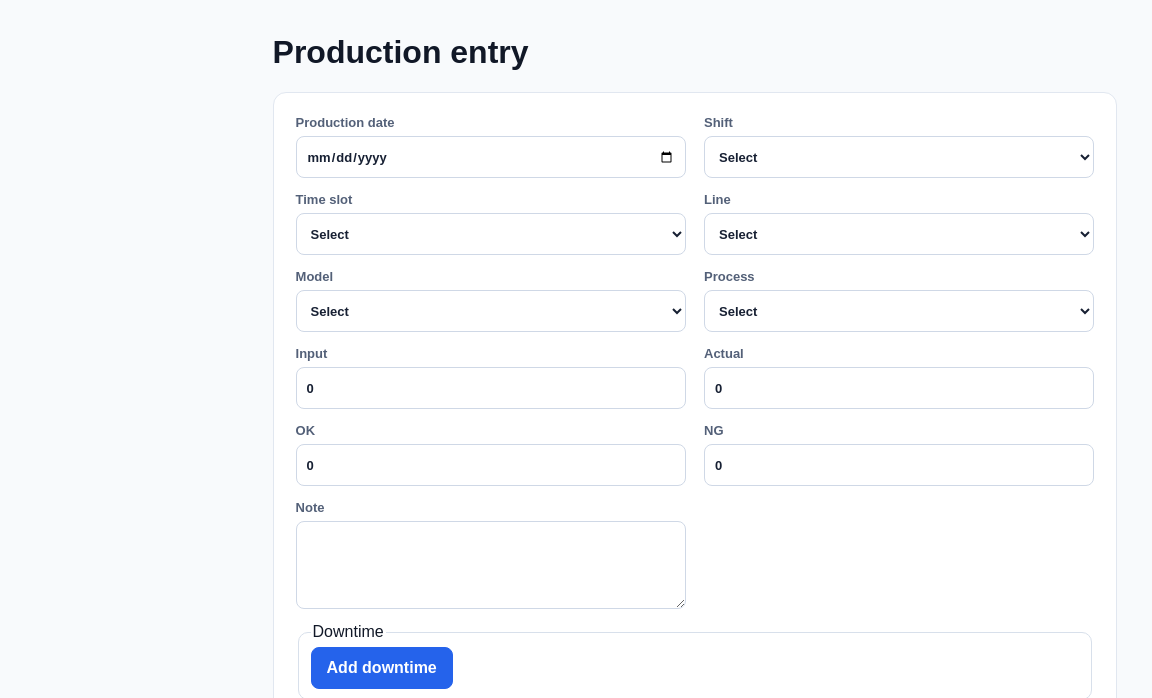
Test case: ProductionEntryPage › loads an existing record, submits its exact version, and advances local version after save
Later steps or results of the test are not shown.
Expected: the dropdown labelled "Shift" is shown, top-left (704, 136), bottom-right (1094, 178)
Type "2026-07-28" into the date field labelled "Production date". click: {"x": 491, "y": 157}
box: top-left (296, 136), bottom-right (686, 178)
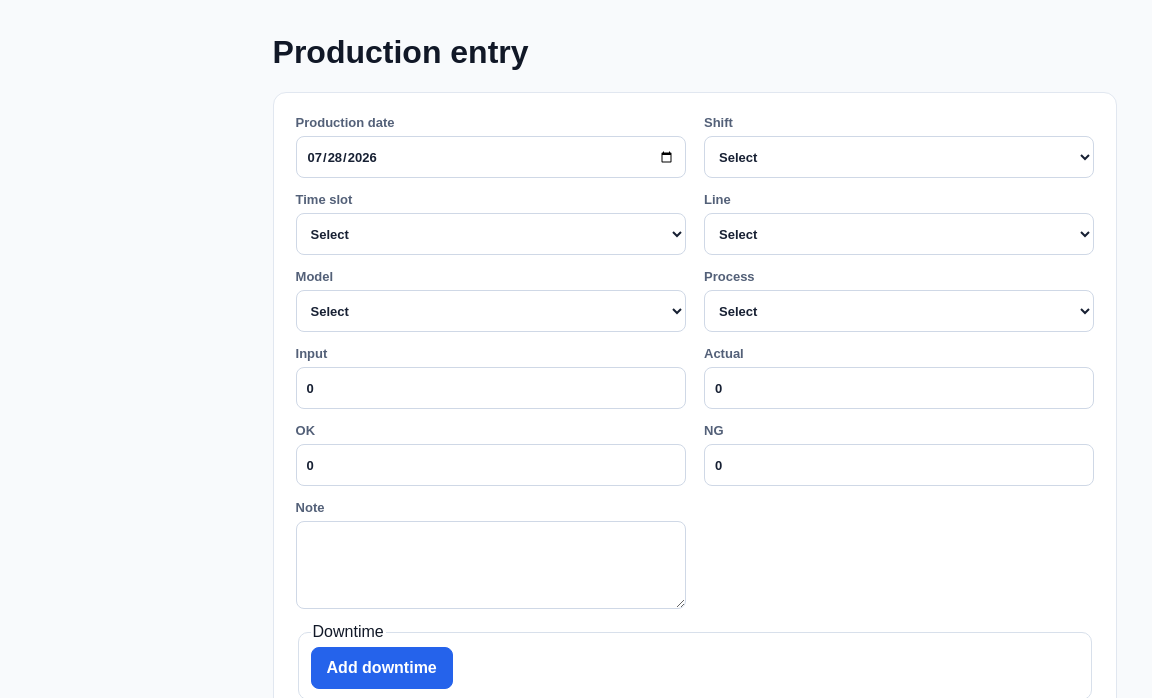
Select "Day" in the dropdown labelled "Shift". click: {"x": 899, "y": 157}
box: top-left (704, 136), bottom-right (1094, 178)
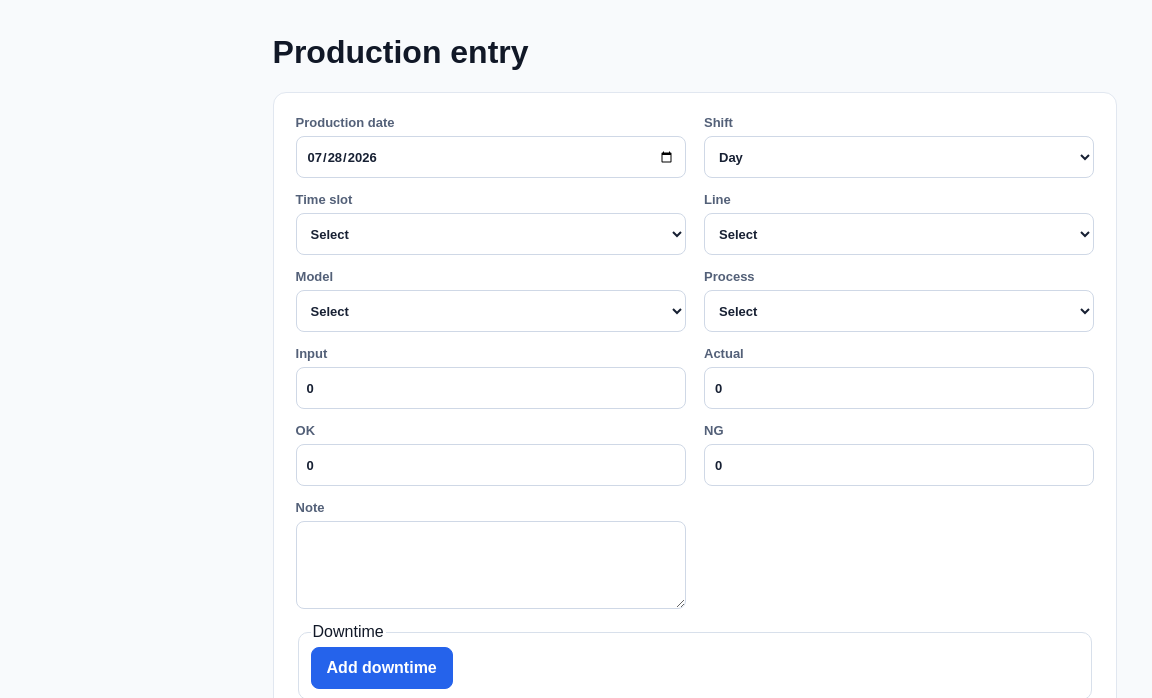
Select "A" in the dropdown labelled "Time slot". click: {"x": 491, "y": 234}
box: top-left (296, 213), bottom-right (686, 255)
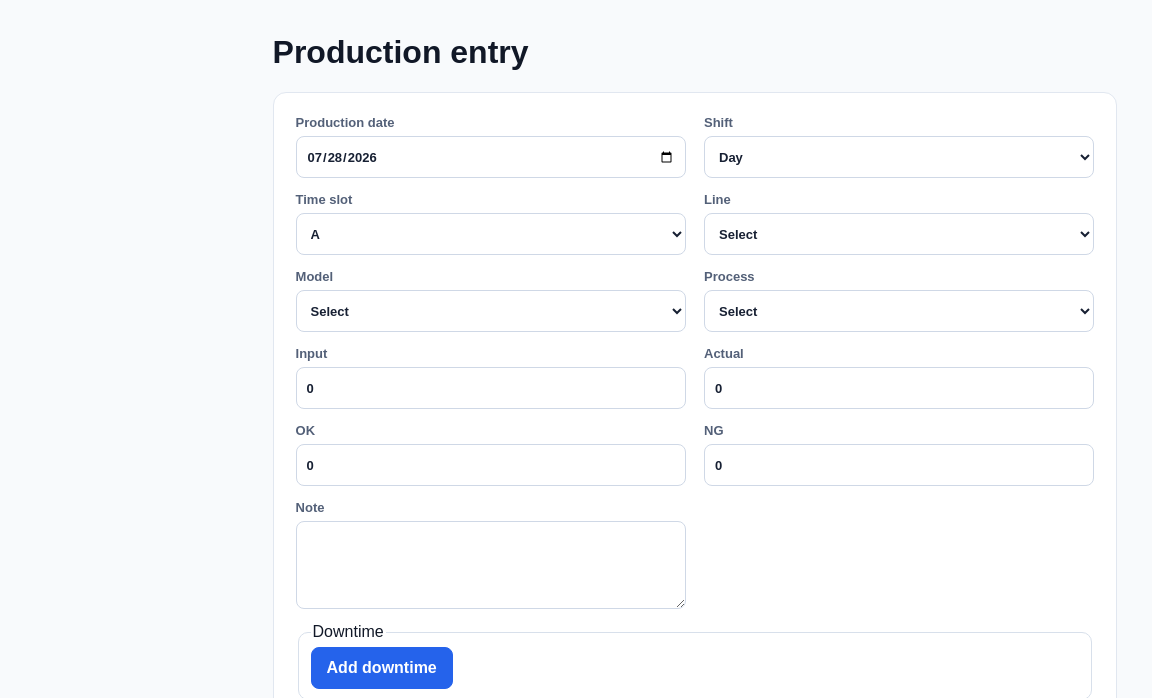
Select "Line" in the dropdown labelled "Line". click: {"x": 899, "y": 234}
box: top-left (704, 213), bottom-right (1094, 255)
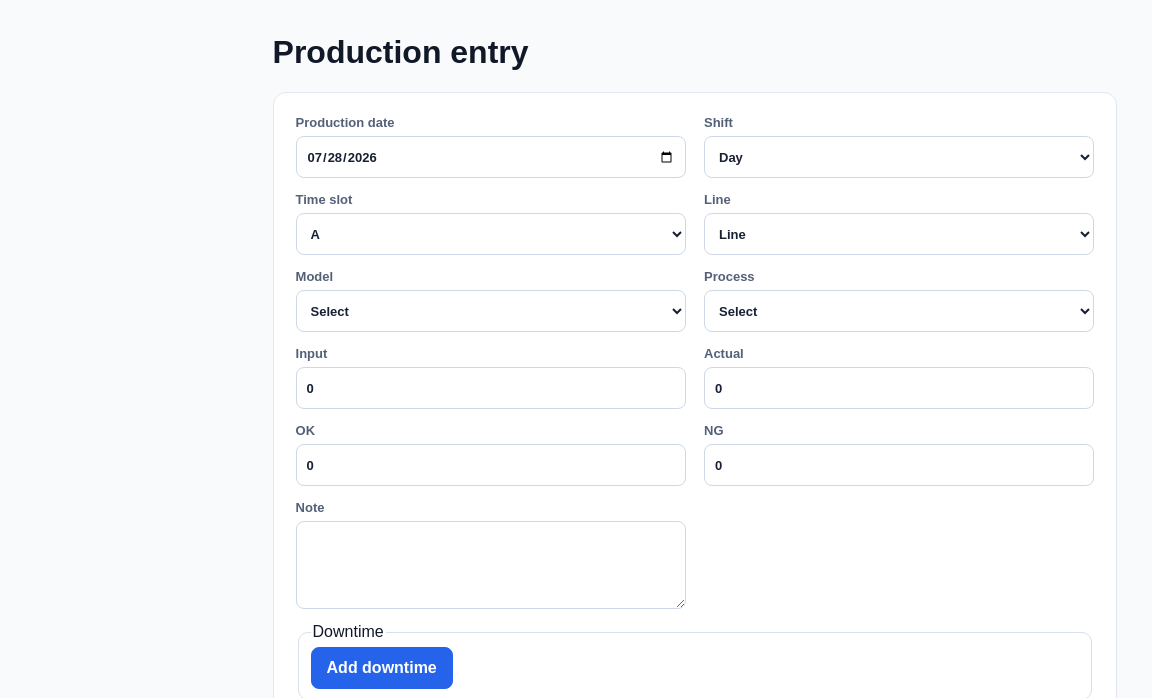
Select "Model" in the dropdown labelled "Model". click: {"x": 491, "y": 311}
box: top-left (296, 290), bottom-right (686, 332)
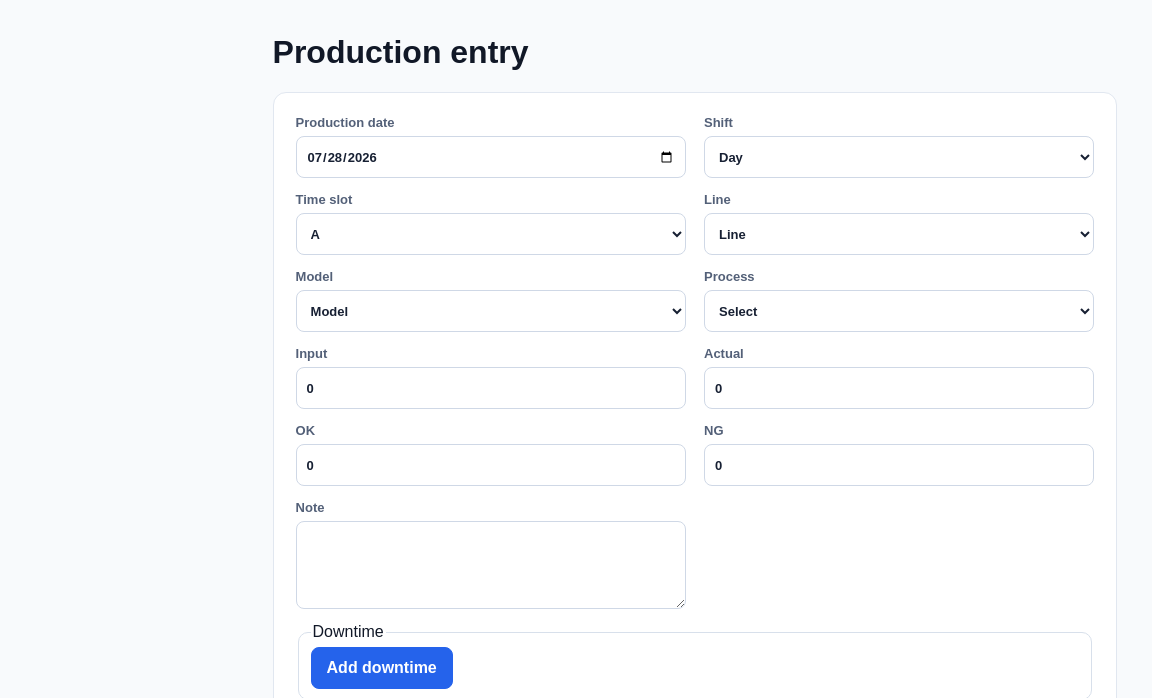
Select "AOI" in the dropdown labelled "Process". click: {"x": 899, "y": 311}
box: top-left (704, 290), bottom-right (1094, 332)
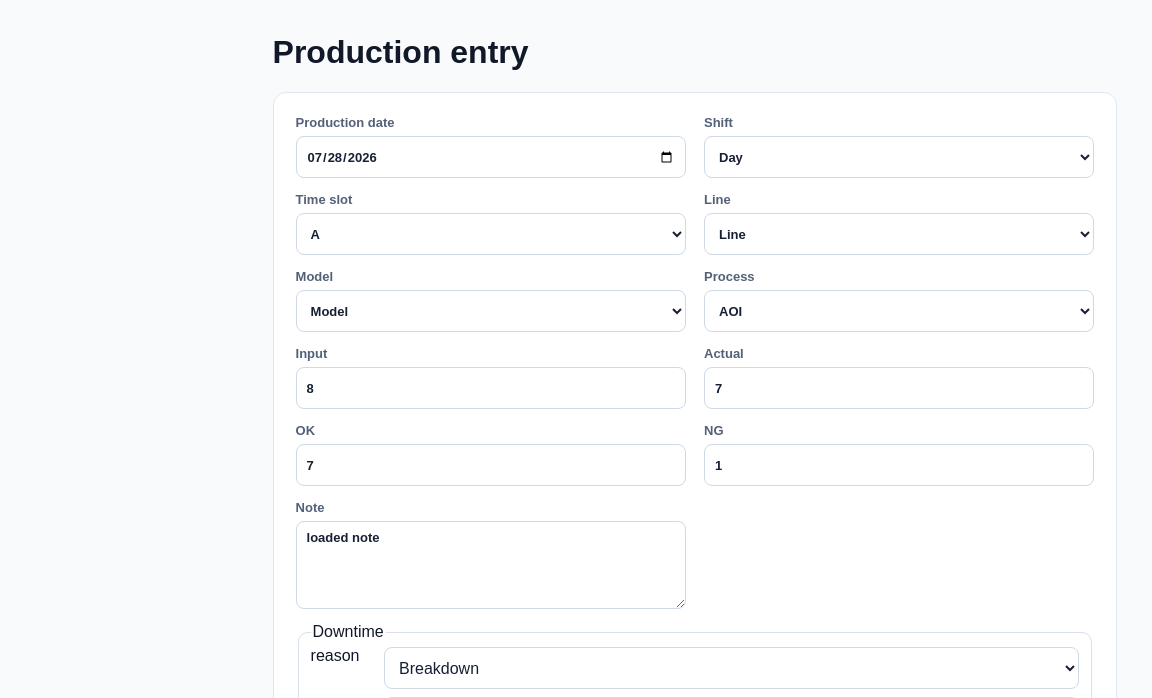
Result: the number field labelled "Input" holds "8" at top-left (296, 367), bottom-right (686, 409)
Result: the text box labelled "Note" holds "loaded note" at top-left (296, 521), bottom-right (686, 609)
